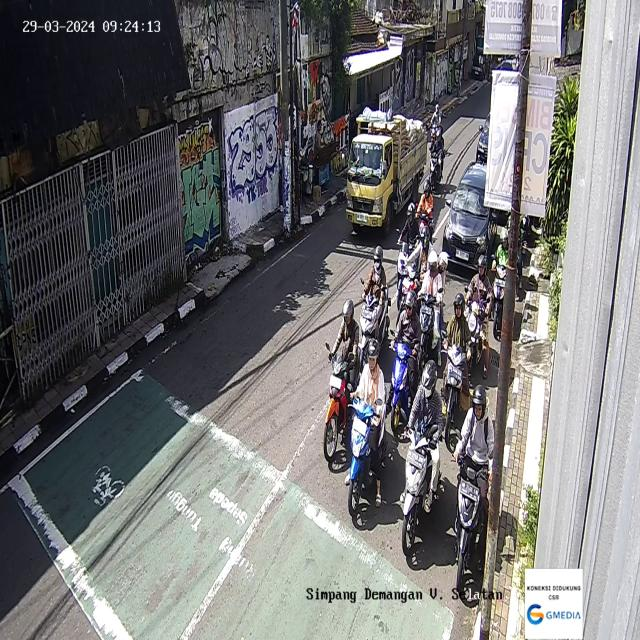car: (442, 160, 492, 270), (476, 112, 491, 164)
motorcycle: (399, 358, 443, 556), (452, 384, 493, 593), (344, 338, 387, 518), (323, 298, 362, 462), (386, 291, 421, 439), (442, 292, 471, 444), (396, 220, 434, 328), (360, 244, 391, 370), (417, 250, 448, 370), (463, 255, 492, 380), (396, 202, 422, 313), (491, 226, 508, 340), (415, 179, 434, 246), (429, 124, 444, 188), (428, 104, 441, 151)
truck: (345, 111, 428, 238)
